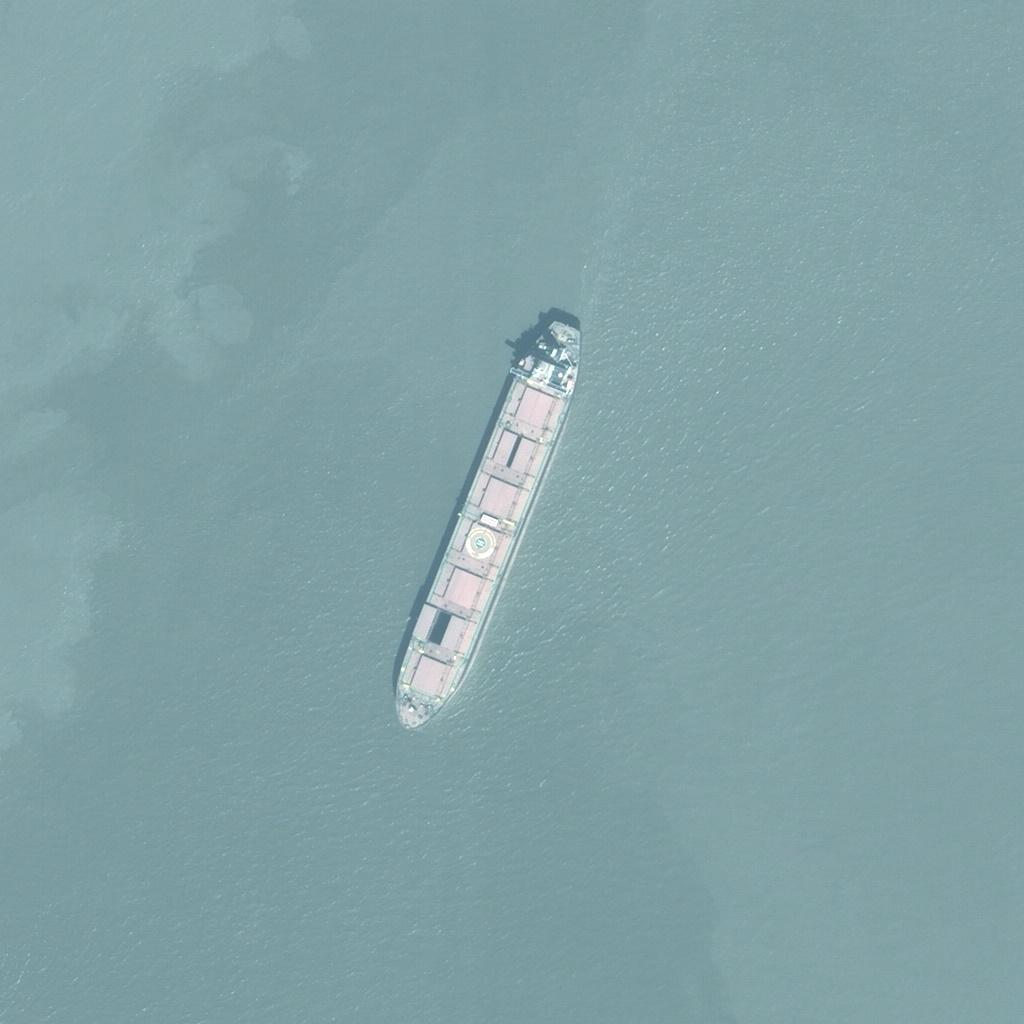ship: (398, 316, 582, 734)
